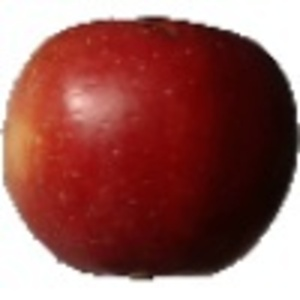maçã braeburn: (1, 16, 299, 283)
